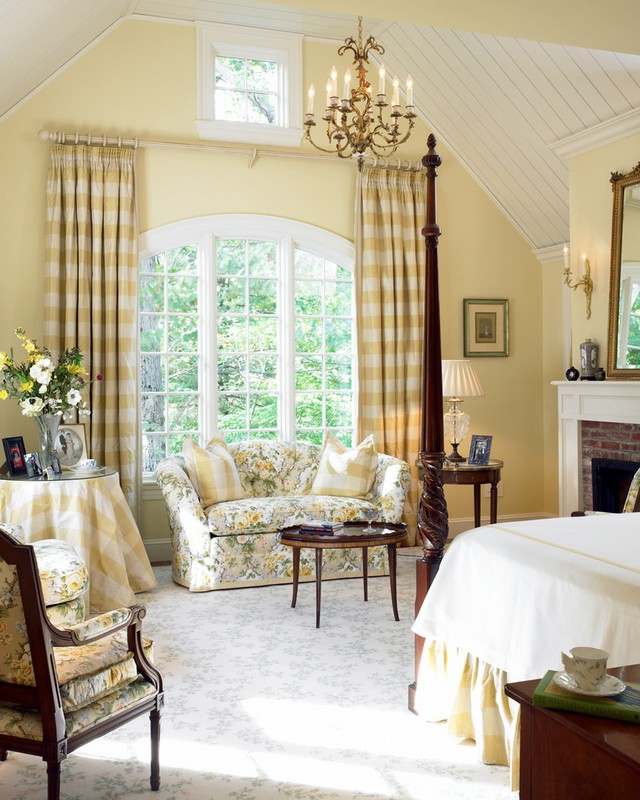bed: (412, 479, 638, 771)
chair: (2, 523, 173, 799)
lamp: (438, 356, 481, 462)
sofa: (154, 425, 408, 597)
stool: (2, 464, 155, 615), (276, 505, 408, 631), (414, 451, 506, 551)
table: (502, 656, 639, 797)
